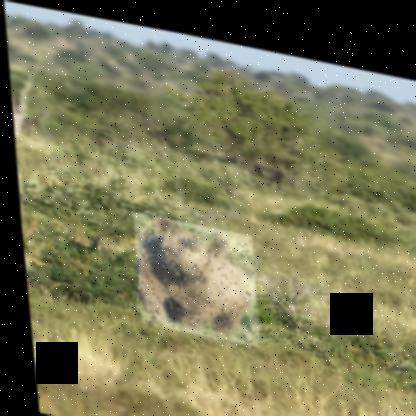Diceros bicornis: (127, 207, 258, 340)
